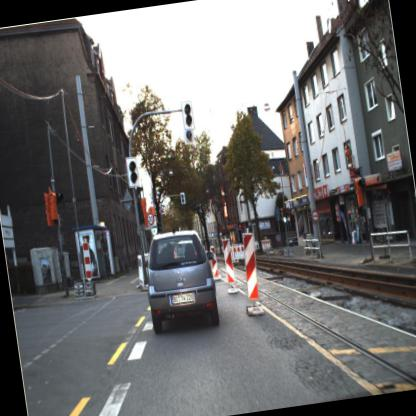prohibitory: (144, 209, 158, 226), (309, 207, 321, 226)
